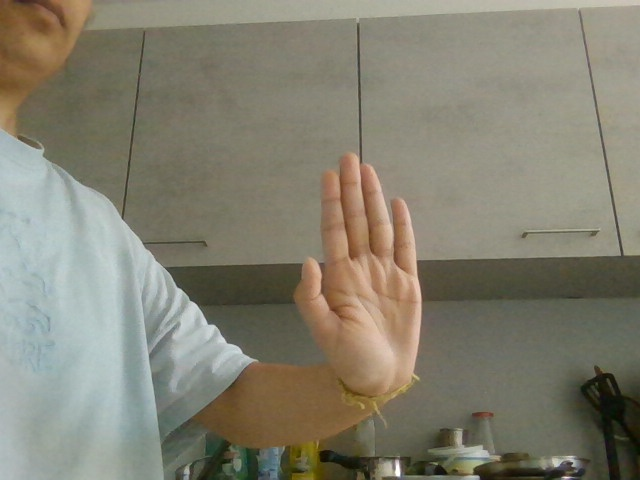Palm: (279, 148, 447, 400)
